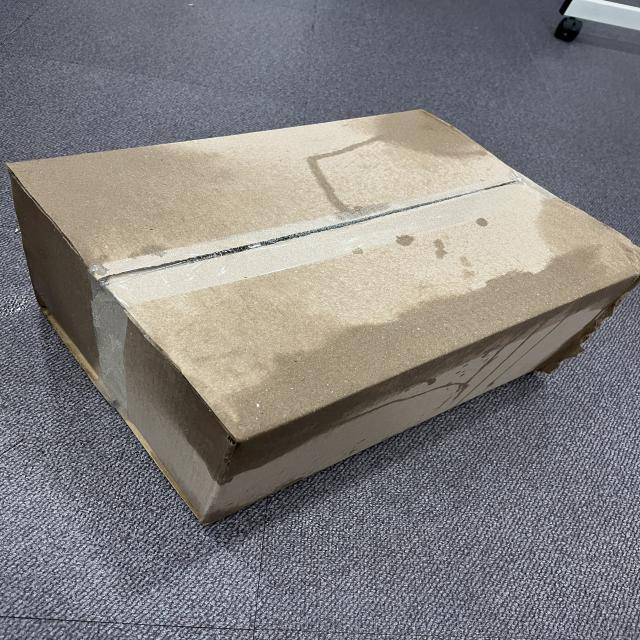wet: (131, 312, 314, 484), (0, 143, 210, 285), (518, 198, 640, 319), (358, 104, 488, 162)
